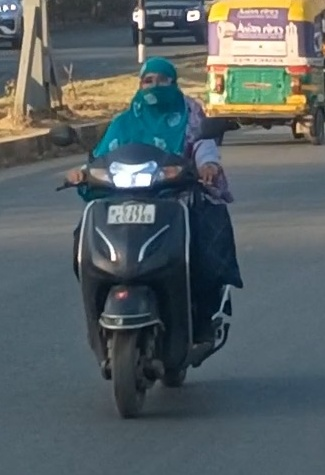BikeWithRider: (54, 54, 244, 421)
NoHelmet: (135, 55, 185, 110)
